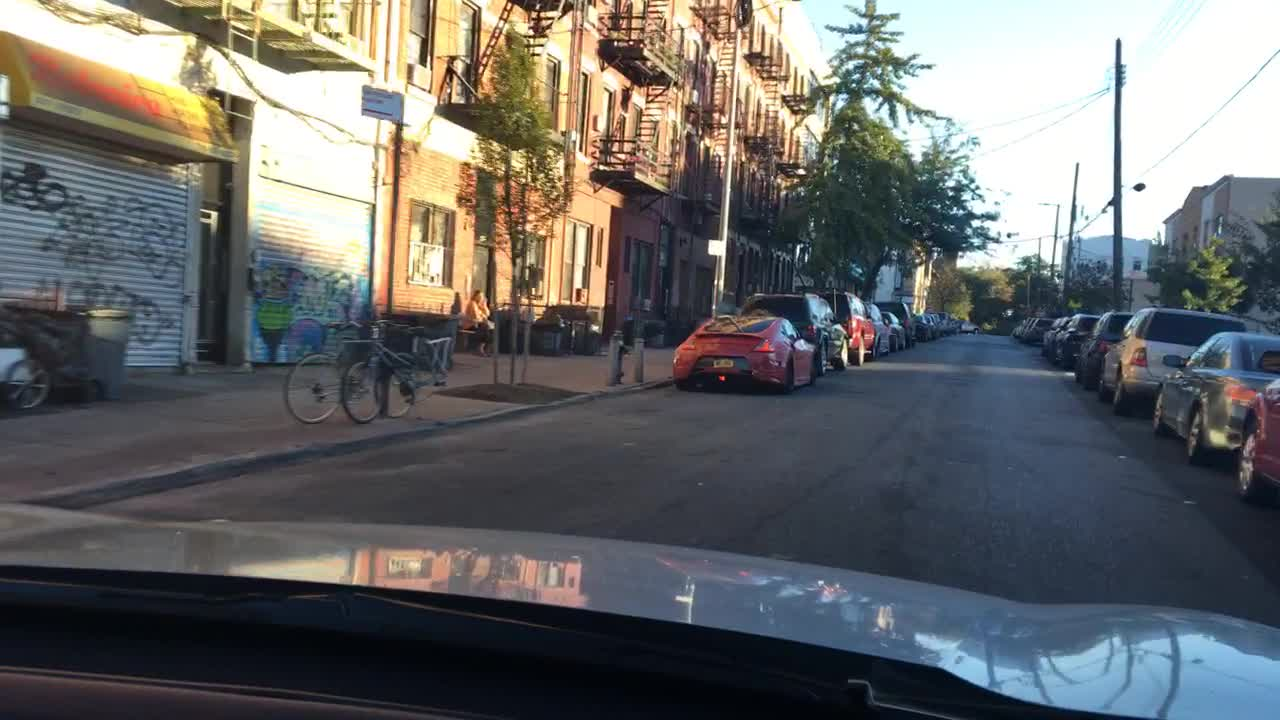bike: (286, 318, 374, 426), (341, 319, 426, 425), (374, 324, 458, 420)
car: (1152, 331, 1279, 460), (1101, 308, 1245, 411), (671, 312, 818, 393), (736, 292, 849, 373), (1076, 308, 1149, 397), (809, 290, 875, 364), (870, 299, 912, 350), (1059, 315, 1097, 366), (858, 301, 885, 357), (880, 309, 906, 351), (1050, 317, 1067, 356), (1043, 316, 1060, 350), (1033, 317, 1054, 344), (911, 308, 924, 342), (957, 318, 978, 335), (923, 312, 935, 340), (1025, 315, 1038, 340), (939, 312, 950, 336), (934, 313, 944, 336), (1018, 317, 1029, 337), (951, 315, 957, 334), (1012, 328, 1023, 335)
person: (466, 287, 492, 355)
traffic sign: (362, 85, 402, 126), (708, 240, 725, 256), (1127, 271, 1147, 280)
